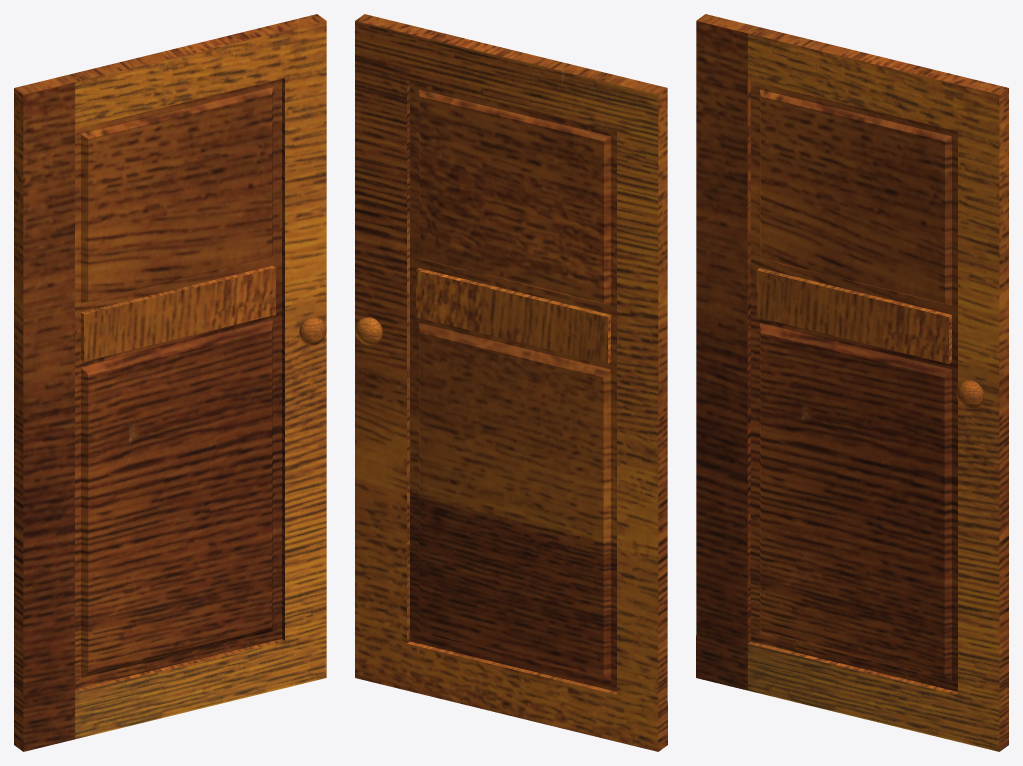
Rendered from door.fbx.
3 renders of one model, left to right at view 1: azimuth 30°, elevation 25°; view 2: azimuth 150°, elevation 25°; view 3: azimuth 330°, elevation 25°, orthographic.
Visible parts, largest first — view 1: pCylinder2; view 2: pCylinder2; view 3: pCylinder2.
Part boxes in pixels (x1,y1,x2,y2): pCylinder2: [14, 14, 326, 751]; pCylinder2: [355, 14, 667, 751]; pCylinder2: [696, 14, 1008, 751].
Bounding box in the file's own units: 22.03 × 45.6 × 4.5.
1 material, 1 textured.
